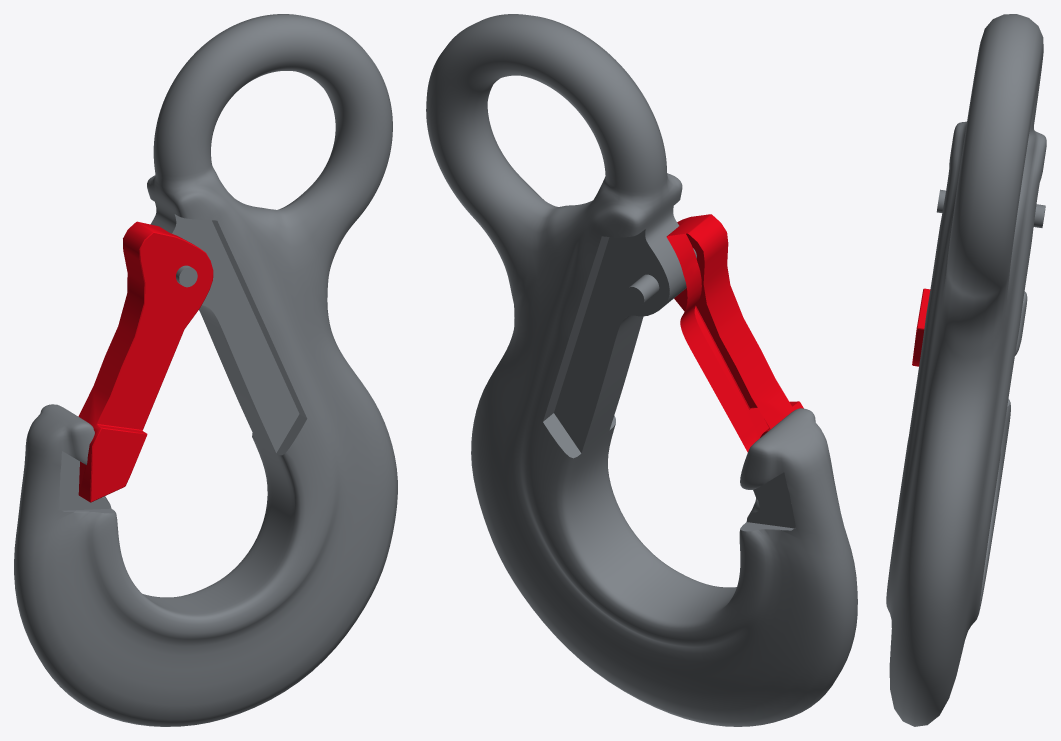
3 views of the same model, side by side, from view 1: azimuth 30°, elevation 25°; view 2: azimuth 150°, elevation 25°; view 3: azimuth 270°, elevation 25° (orthographic). The views are drawn at different scales.
Parts seen in each view (by area): view 1: Circle.006; view 2: Circle.006; view 3: Circle.006.
Boxes of the visible parts, <box> form: Circle.006: <box>14,14,397,726</box>; Circle.006: <box>426,14,857,726</box>; Circle.006: <box>886,14,1046,726</box>.
Size of the model in its own units: 0.774 by 1.26 by 0.2508.
